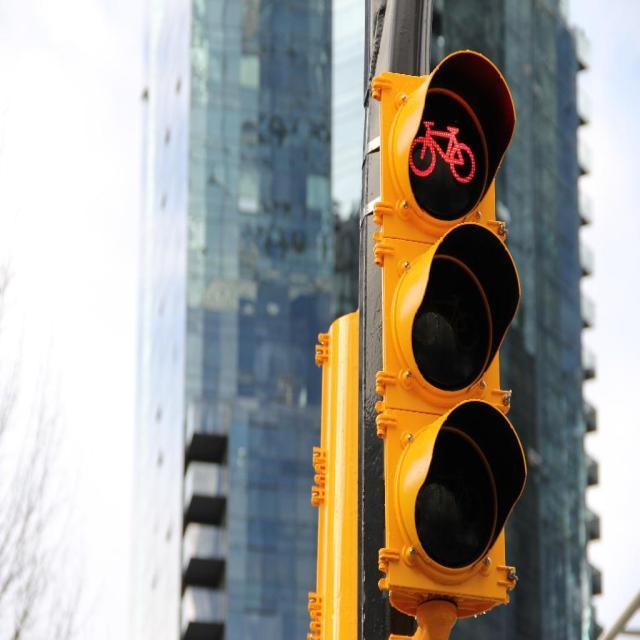traffic light: (364, 82, 520, 590)
